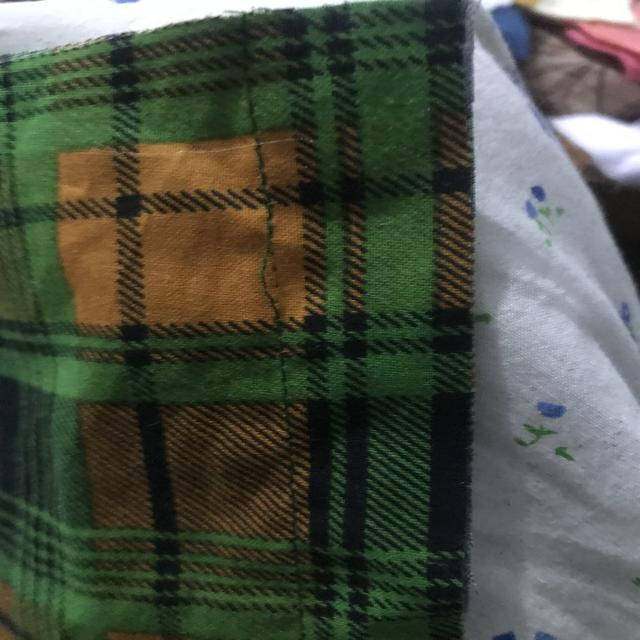skip: (244, 219, 305, 331)
